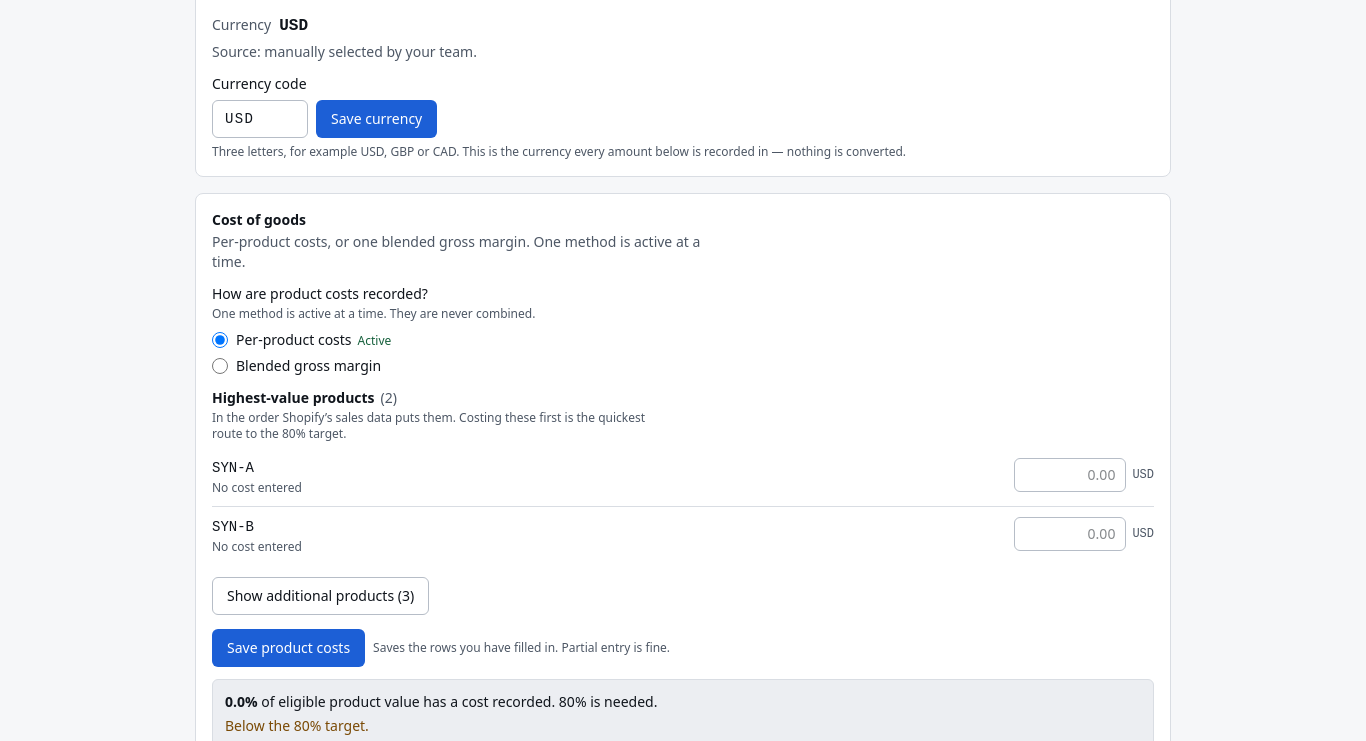
Test: the cost-of-goods control › confirms a method switch and describes the retained values accurately
(page scrolled)
Click the radio button labelled "Blended gross margin" at x=220, y=366, box 212,358 -> 228,374
(page scrolled)
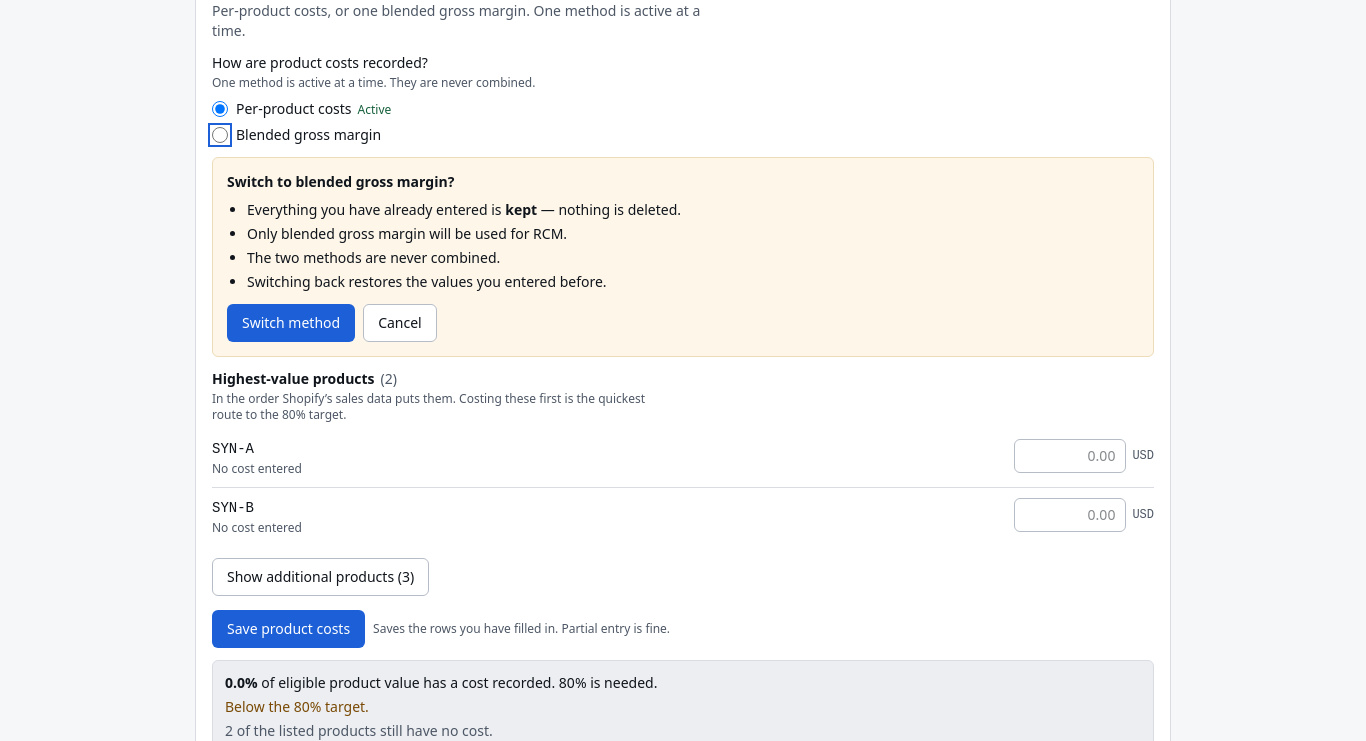
Now the heading "Switch to blended gross margin?" is shown, box 227,172 -> 454,191
Now the element "Cost of goods" shows "nothing is deleted", box 537,200 -> 681,219
Now the list item "Switching back restores the values you entered before." is shown, box 247,272 -> 607,291
